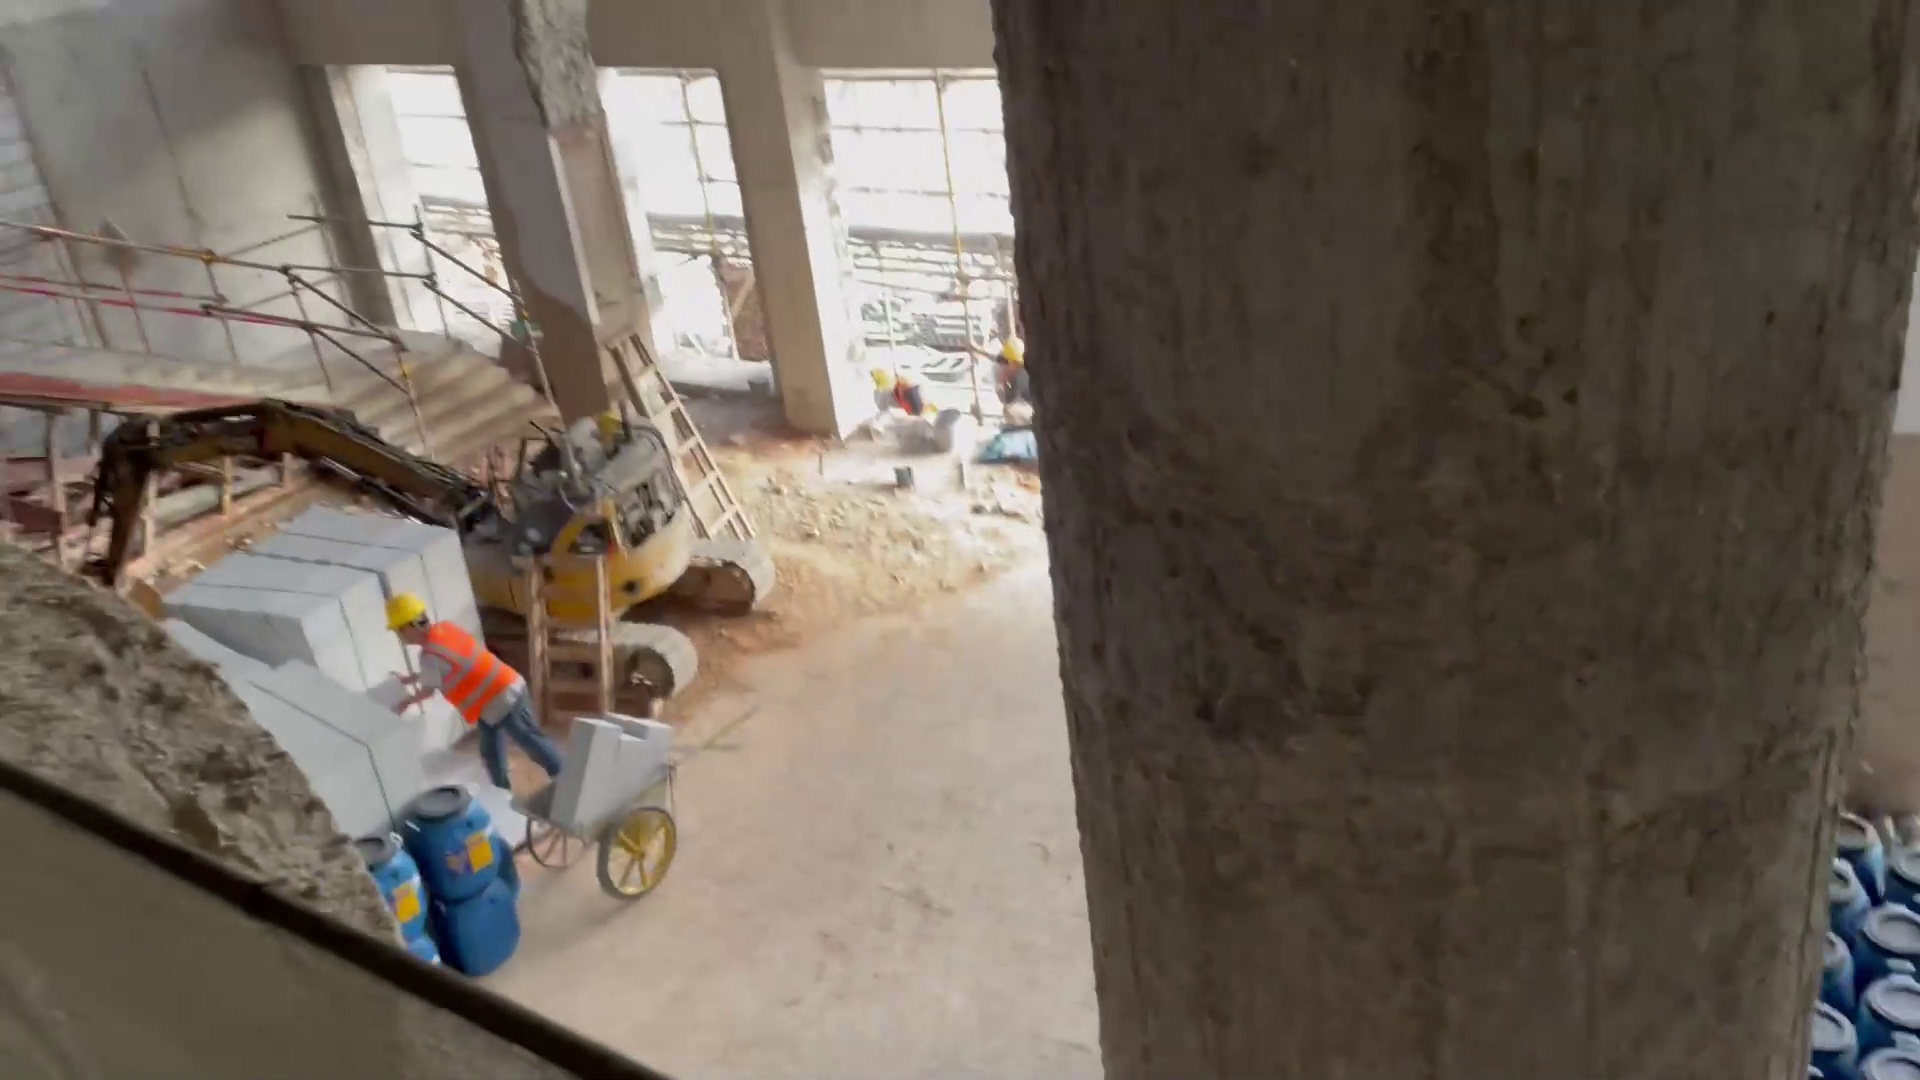helmet: (385, 589, 434, 625), (867, 359, 894, 388), (1000, 337, 1026, 360)
person: (369, 598, 573, 791), (862, 363, 930, 435), (996, 333, 1039, 443)
vest: (410, 634, 525, 715), (893, 383, 923, 415)
